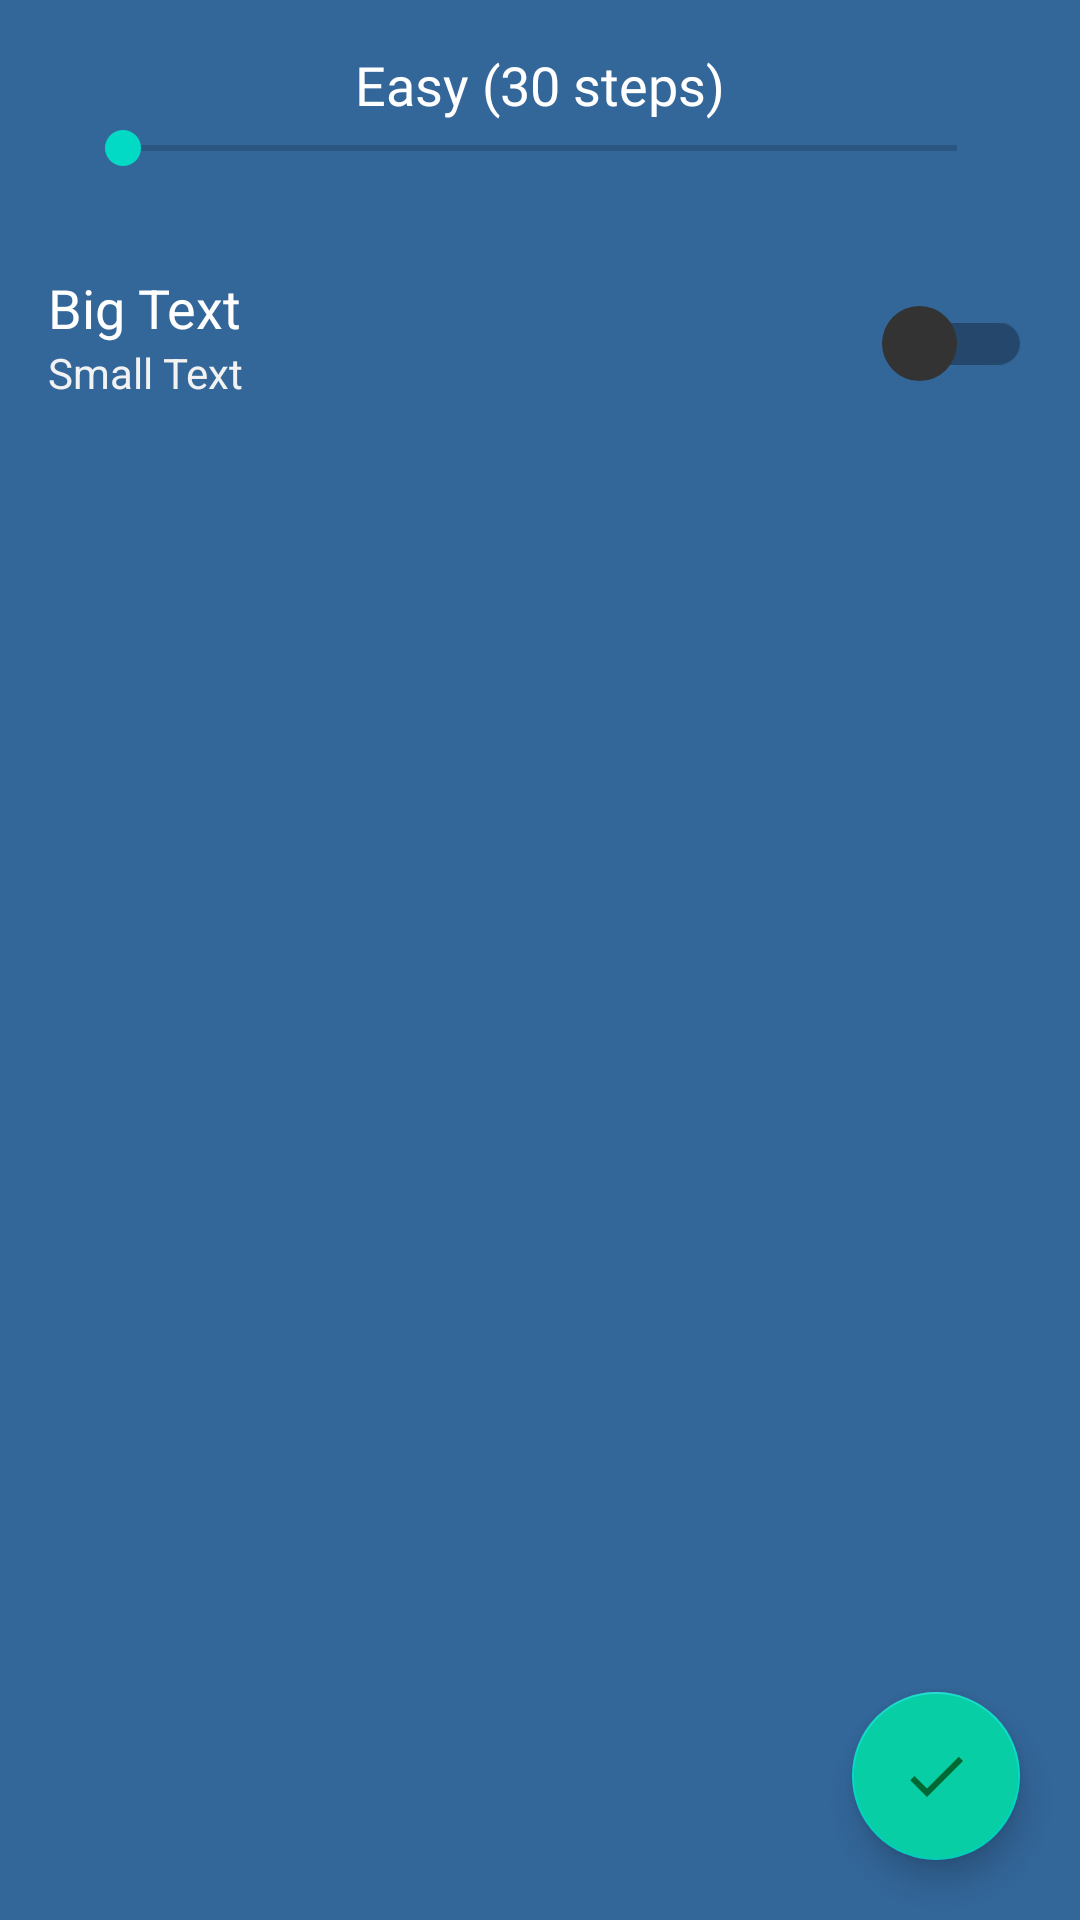

Point at icon controls on the screen. Image size 1080 x 1920, points as (x,y).
done: (936,1776)
